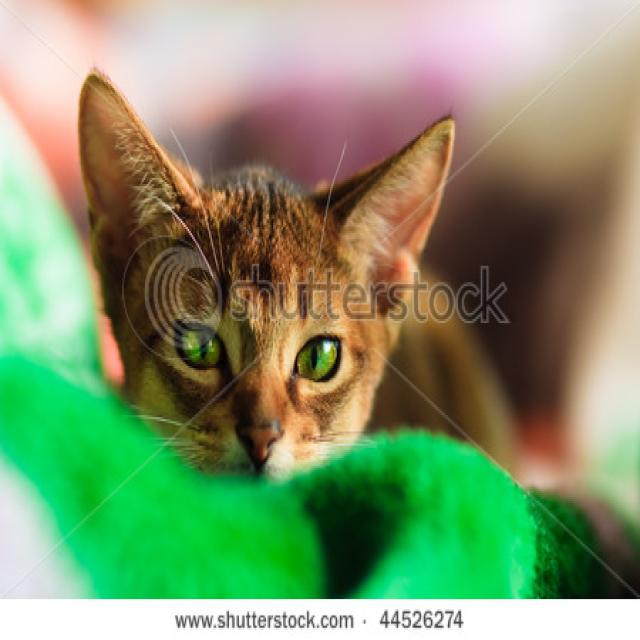cat: (75, 71, 452, 478)
